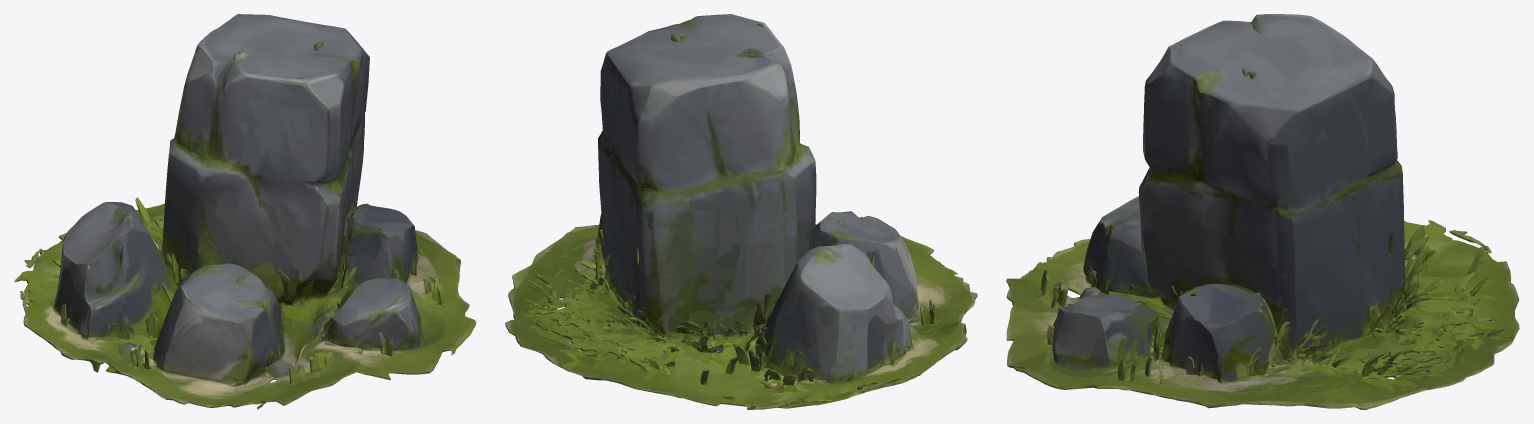
File: rocks_cluster.glb
3 views of the same model, side by side, from view 1: azimuth 30°, elevation 25°; view 2: azimuth 150°, elevation 25°; view 3: azimuth 270°, elevation 25° (orthographic). The views are drawn at different scales.
Parts seen in each view (by area): view 1: geometry_0; view 2: geometry_0; view 3: geometry_0.
Boxes of the visible parts, x1,y1,x2,y2 form: geometry_0: [14, 14, 476, 409]; geometry_0: [505, 14, 977, 409]; geometry_0: [1006, 14, 1519, 409].
Bounding box in the file's own units: 2.28 × 1.5 × 2.28.
Materials: 1 (1 with a texture image).
